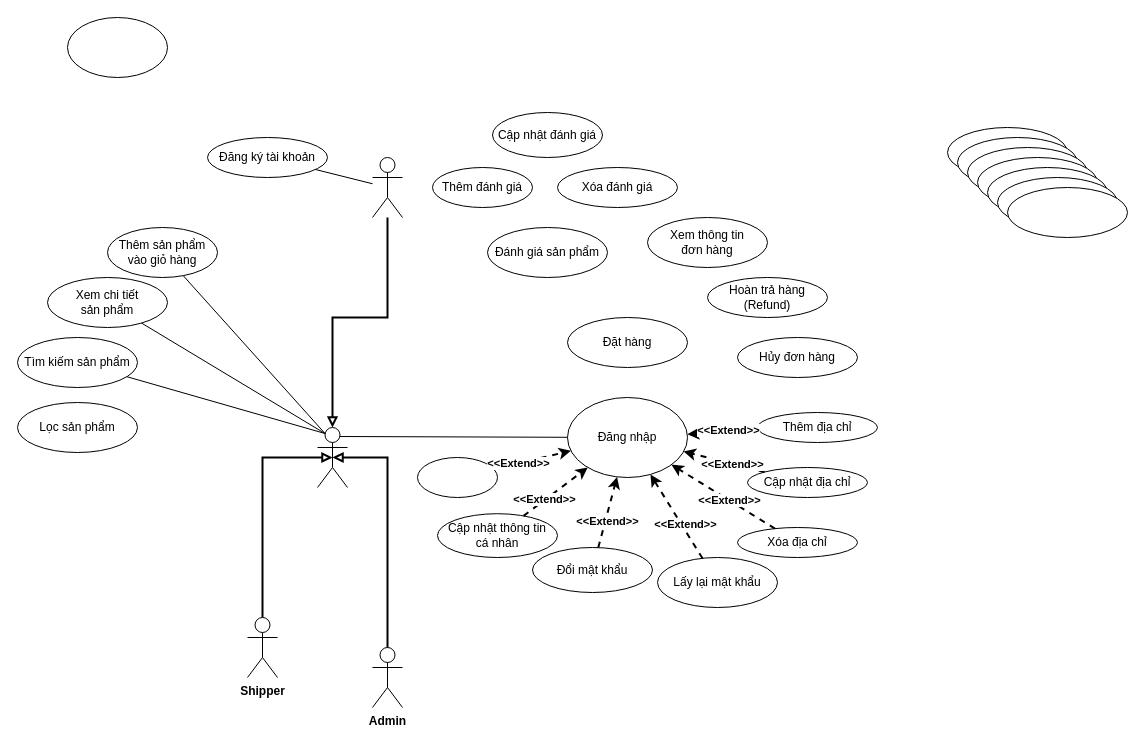
This 1145x746 diagram has some shape labels left out. The shapes that lost their labels are listed below. From the top down, each one's centre as x and y in pixels, then its label:
At point 117,47: "Xem sản phẩm".
At point 387,187: "Khách hàng".
At point 332,457: "Người dùng".
At point 457,477: "Đăng xuất".
